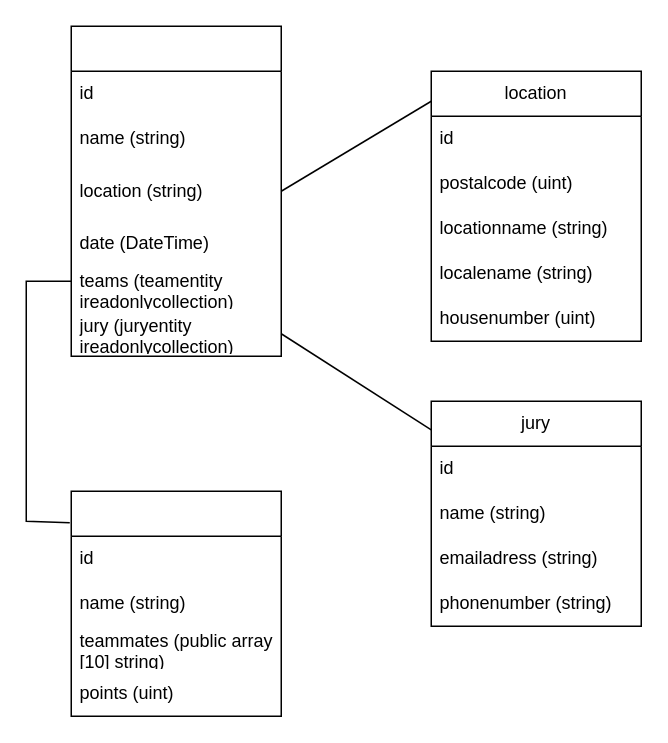
Image size: 668x743. Some labels were removed from this diagram. The shapes that lost their labels are listed below. From the top down, each one's box as (x1, y1, x2, y2) in pixels, then its label:
(70, 25, 281, 356): competition
(70, 490, 281, 716): teams
